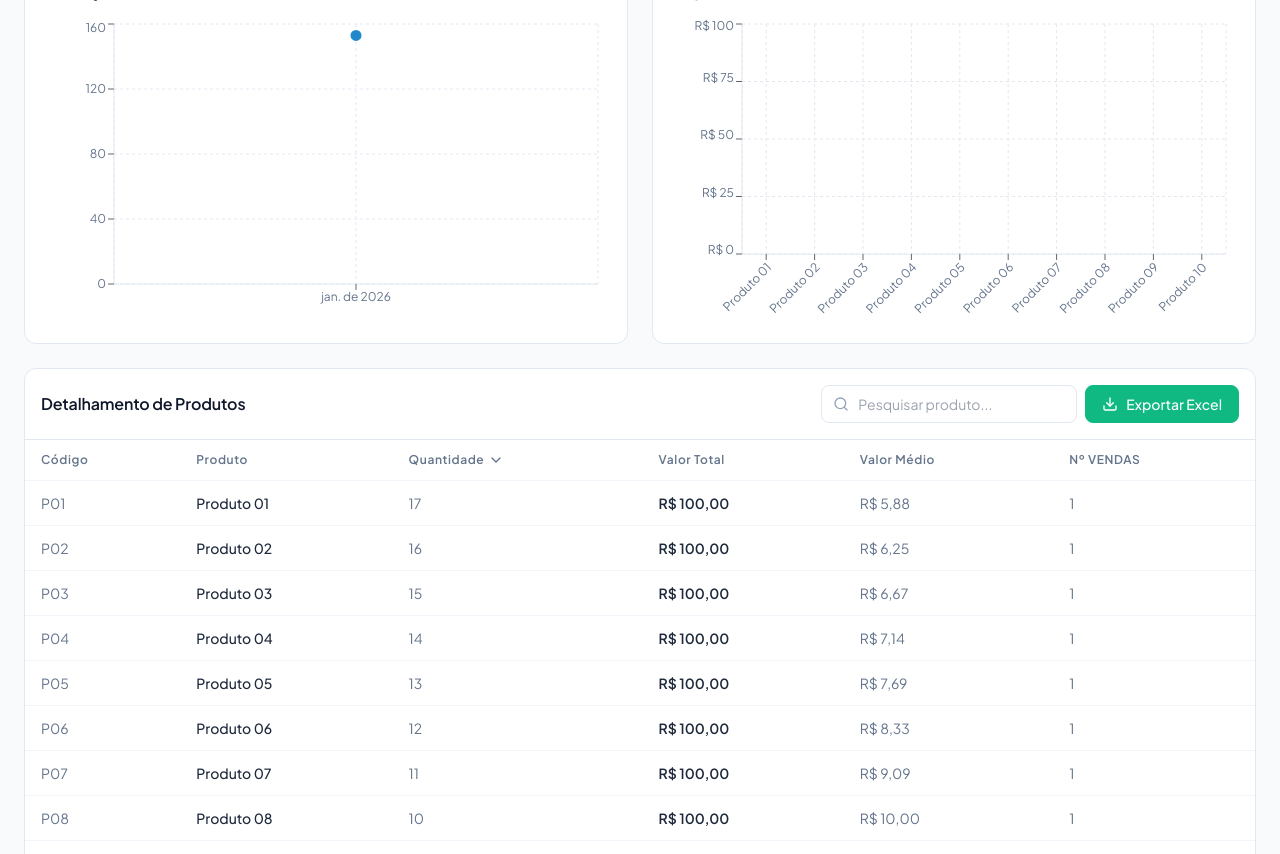
Test: paginacao em Produtos › com filtro que nao casa nada, a tabela diz que esta vazia
(page scrolled)
Type "zzzzz-nao-existe" into the field with placeholder "Pesquisar produto..." at (949, 404), box [821, 385, 1077, 423]
(page scrolled)
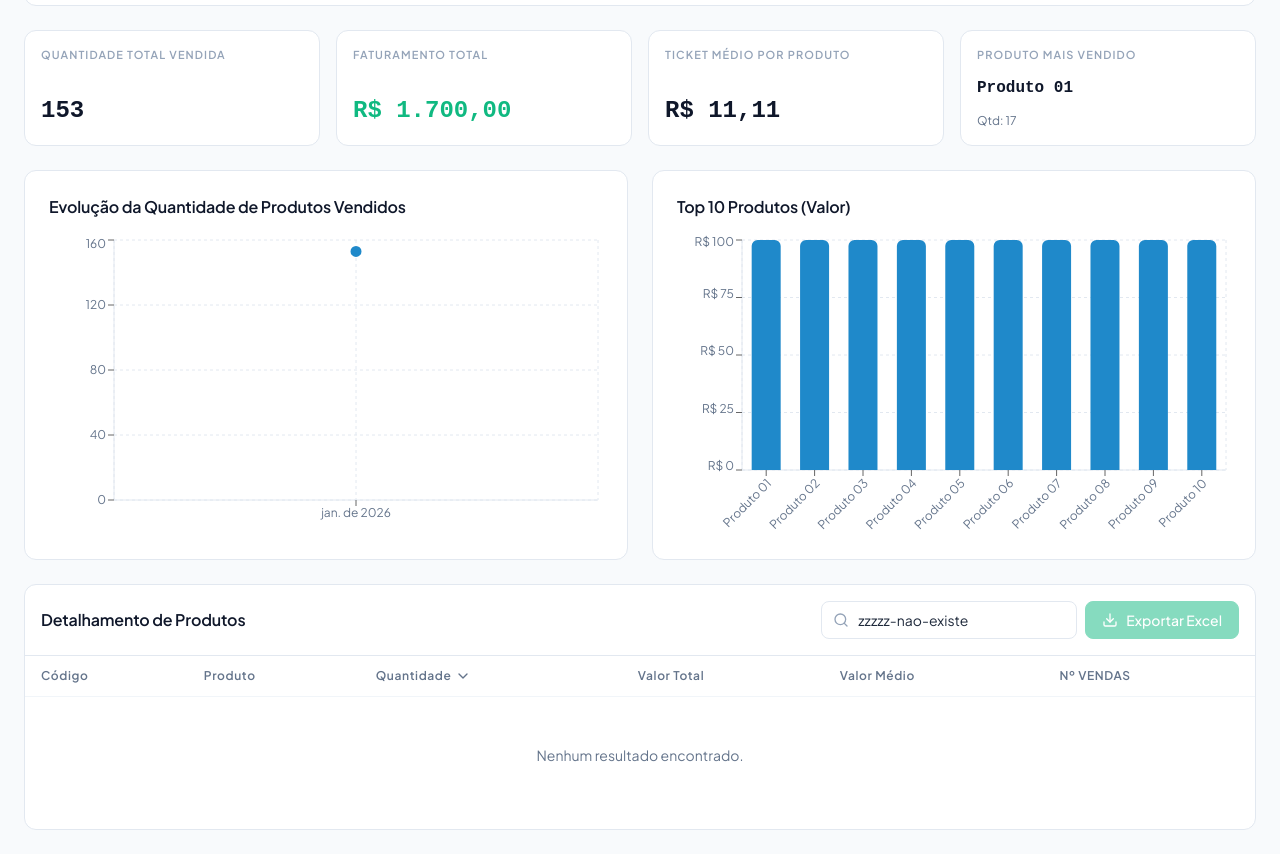
Result: the text "Nenhum resultado encontrado." is shown at [25, 696, 1255, 813]
